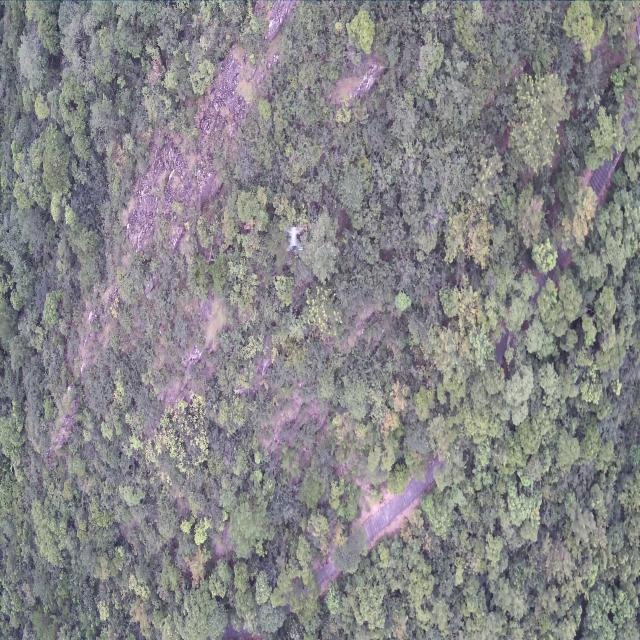UAV: (284, 227, 304, 252)
